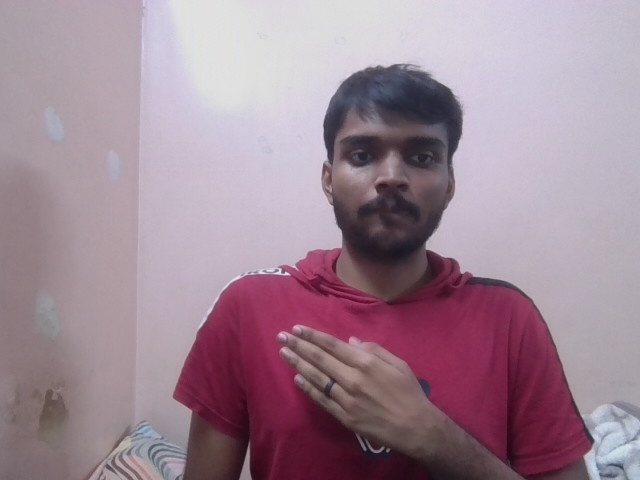Please: (272, 320, 433, 450)
